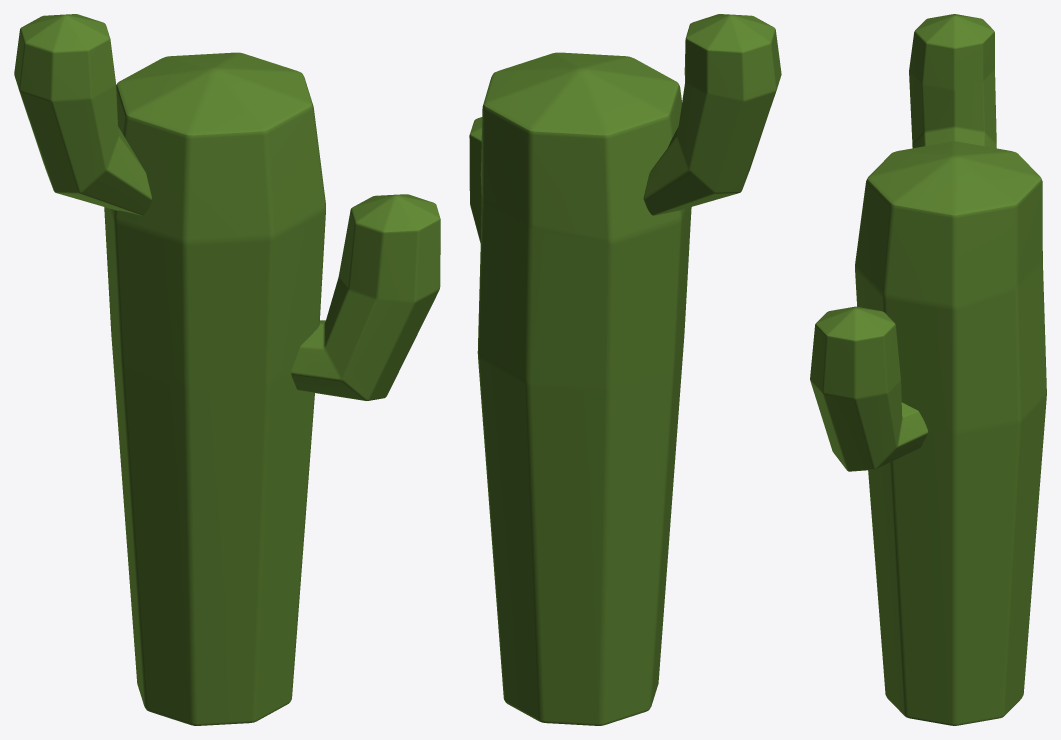
Rendered from CactusWithHands.fbx.
The picture shows the model from 3 angles, left to right: view 1: azimuth 30°, elevation 25°; view 2: azimuth 150°, elevation 25°; view 3: azimuth 270°, elevation 25°; orthographic projection. The views are drawn at different scales.
Parts seen in each view (by area): view 1: pCylinder1, pCylinder3, pCylinder2; view 2: pCylinder1, pCylinder2, pCylinder3; view 3: pCylinder1, pCylinder3, pCylinder2.
Boxes of the visible parts, x1=… form: pCylinder1: x1=104, y1=52, x2=325, y2=725; pCylinder3: x1=291, y1=194, x2=440, y2=400; pCylinder2: x1=14, y1=14, x2=151, y2=215; pCylinder1: x1=477, y1=52, x2=691, y2=725; pCylinder2: x1=643, y1=14, x2=781, y2=215; pCylinder3: x1=469, y1=117, x2=482, y2=242; pCylinder1: x1=855, y1=141, x2=1046, y2=725; pCylinder3: x1=810, y1=306, x2=928, y2=471; pCylinder2: x1=909, y1=14, x2=996, y2=148.
Bounding box in the file's own units: 1.8 × 3.43 × 1.19.
